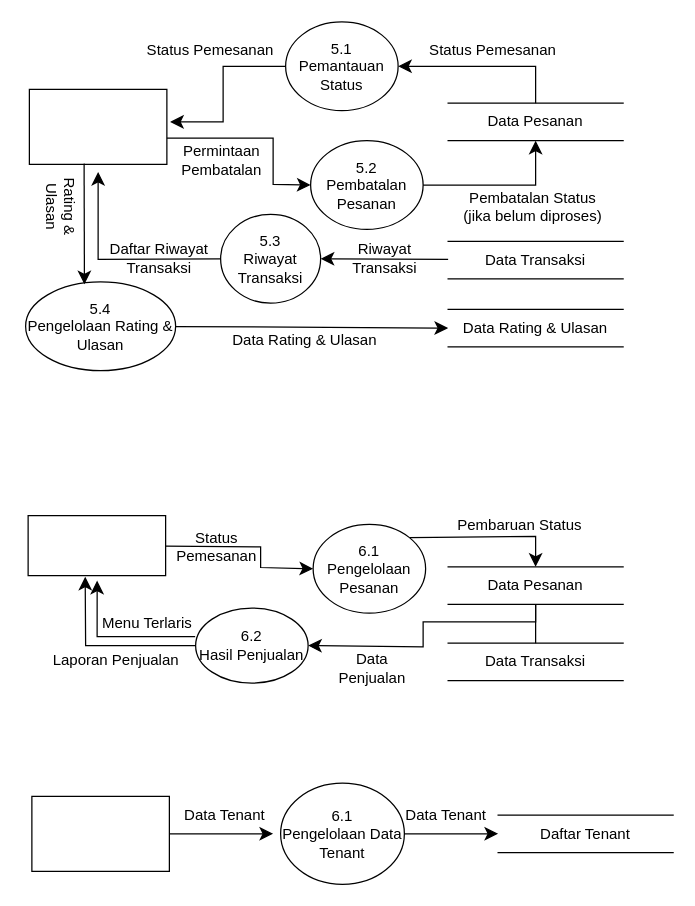
The diagram is 695 pixels wide and 906 high, and some of its shapes have lost their labels. Here are the shapes that lost their labels. From the top down, the centre of each, then its label:
(97,126): Pembeli
(96,545): Penjual
(100,833): Admin Kampus
